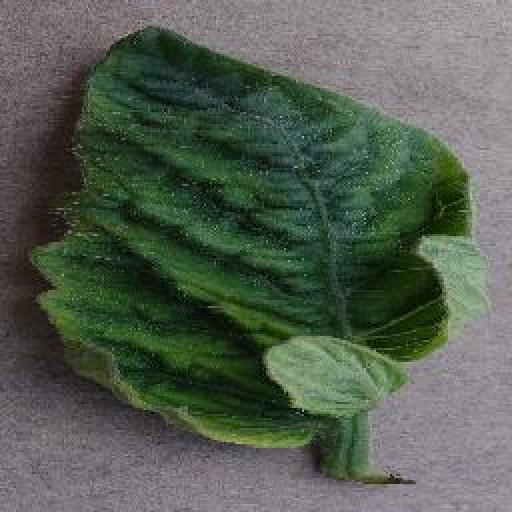disease_tomato: (25, 21, 484, 452)
